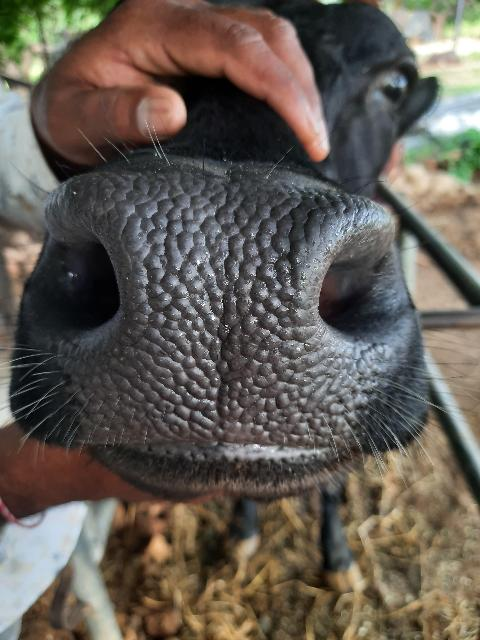Muzzle: (100, 180, 329, 446)
